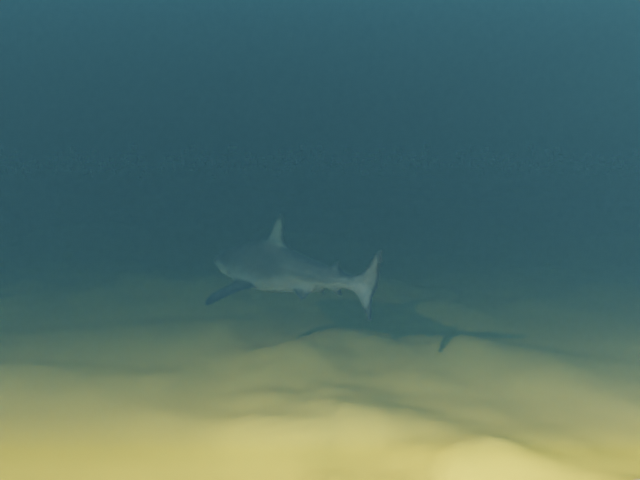Carribean Shark.001: (205, 213, 382, 321)
